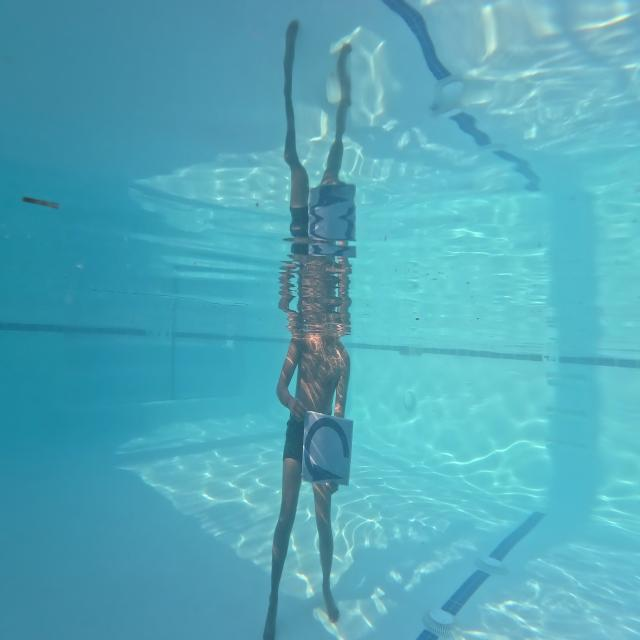blue_side: (302, 405, 359, 496)
